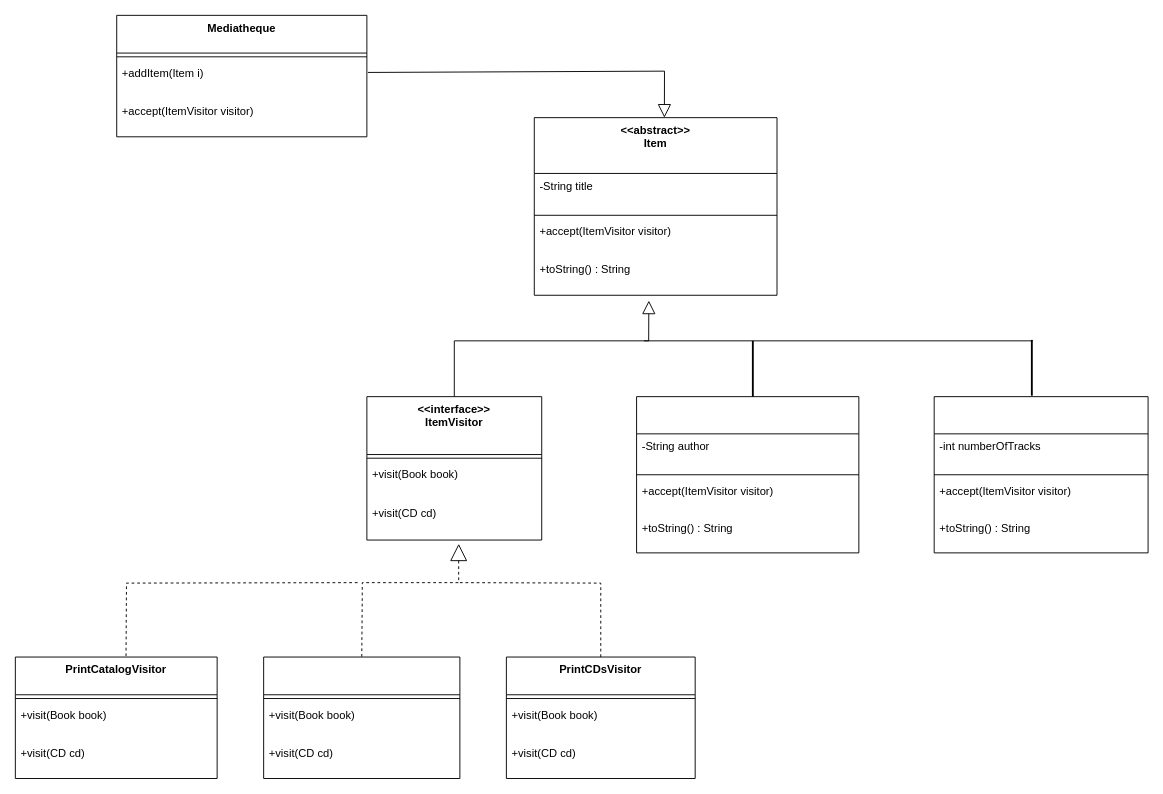
The diagram is 1163 pixels wide and 794 high, and some of its shapes have lost their labels. Here are the shapes that lost their labels. From the top down, the box of each, then its label:
(636, 396, 859, 553): Book
(933, 396, 1148, 553): CD
(263, 656, 460, 779): PrintBooksVisitor
